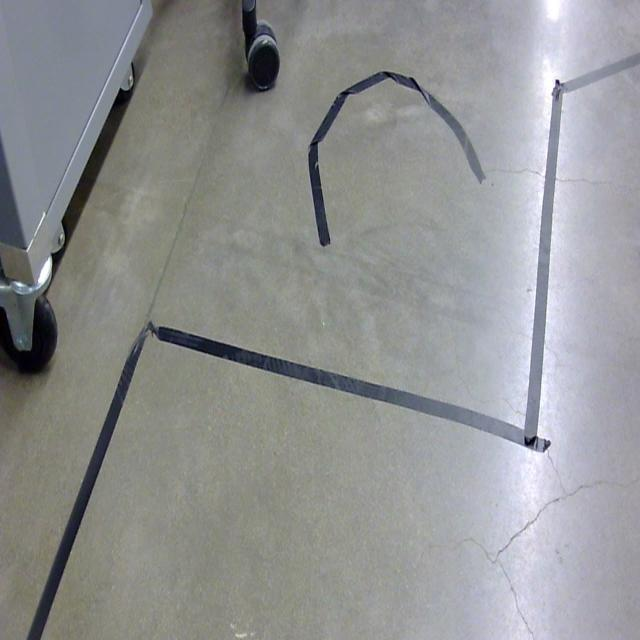tape: (26, 54, 640, 640), (308, 72, 488, 248)
